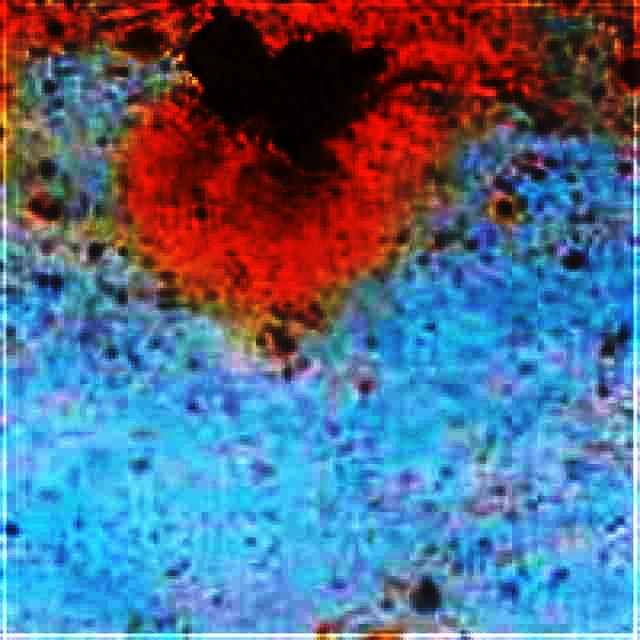Corrosion: (130, 0, 521, 304), (188, 15, 379, 283), (187, 10, 382, 158)
